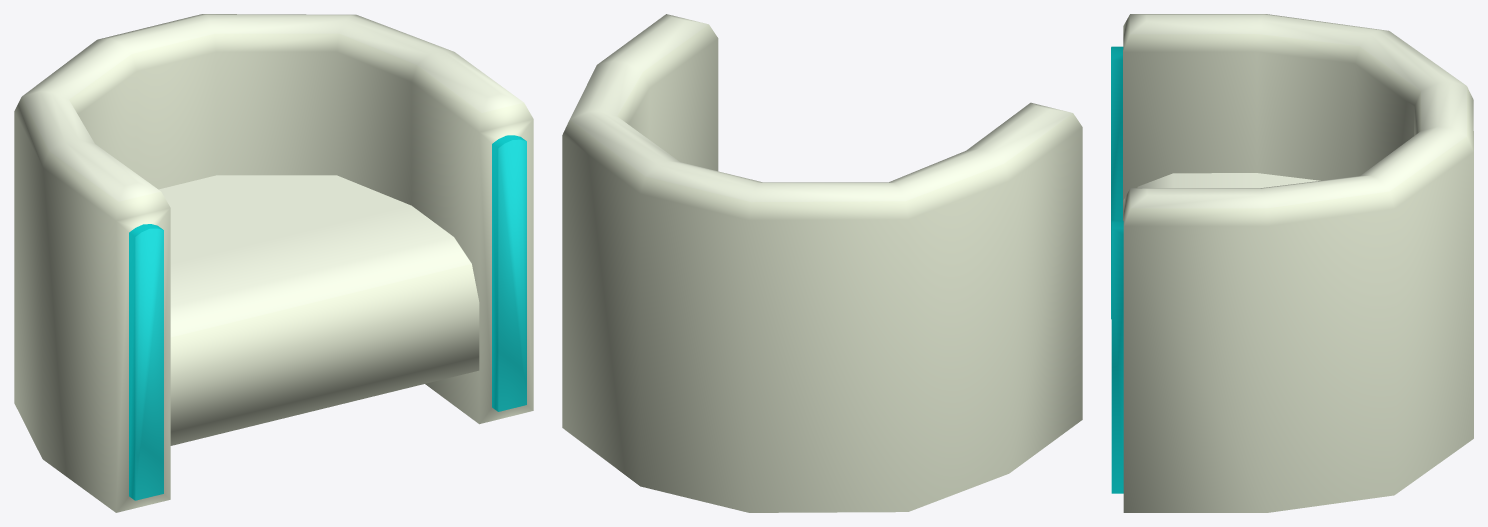
File: Armchair_A.glb
3 views of the same model, side by side, from view 1: azimuth 30°, elevation 25°; view 2: azimuth 150°, elevation 25°; view 3: azimuth 270°, elevation 25° (orthographic). The views are drawn at different scales.
Visible parts, largest first — view 1: Armchair; view 2: Armchair; view 3: Armchair.
Boxes of the visible parts, x1,y1,x2,y2 form: Armchair: [14, 14, 533, 512]; Armchair: [562, 14, 1082, 512]; Armchair: [1111, 14, 1473, 512].
Size of what is drawn, in the model's own units: 1.6 by 1.15 by 1.22.
Materials: 1 (1 with a texture image).
